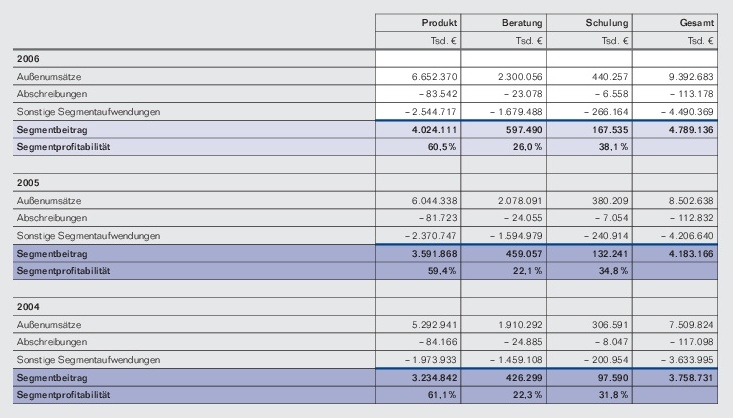table: (0, 0, 733, 418)
